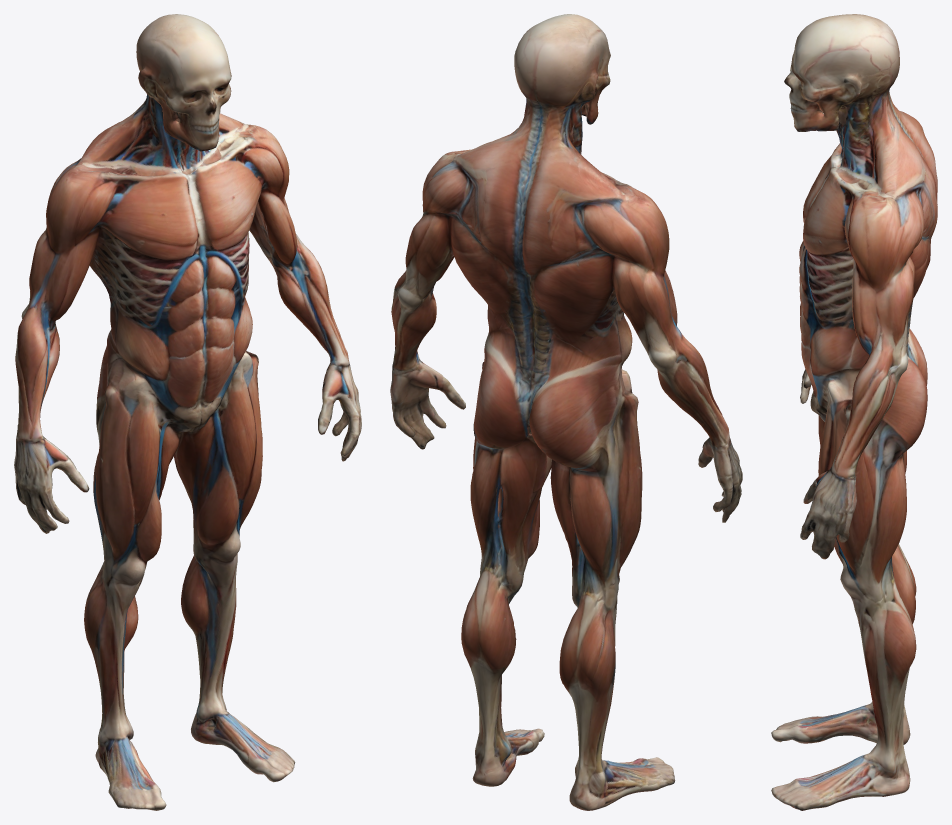
The model's file is skeleton.glb.
The picture shows the model from 3 angles, left to right: view 1: azimuth 30°, elevation 25°; view 2: azimuth 150°, elevation 25°; view 3: azimuth 270°, elevation 25°; orthographic projection.
Bounding box in the file's own units: 0.9475 × 2 × 0.402.
1 material, 1 textured.
